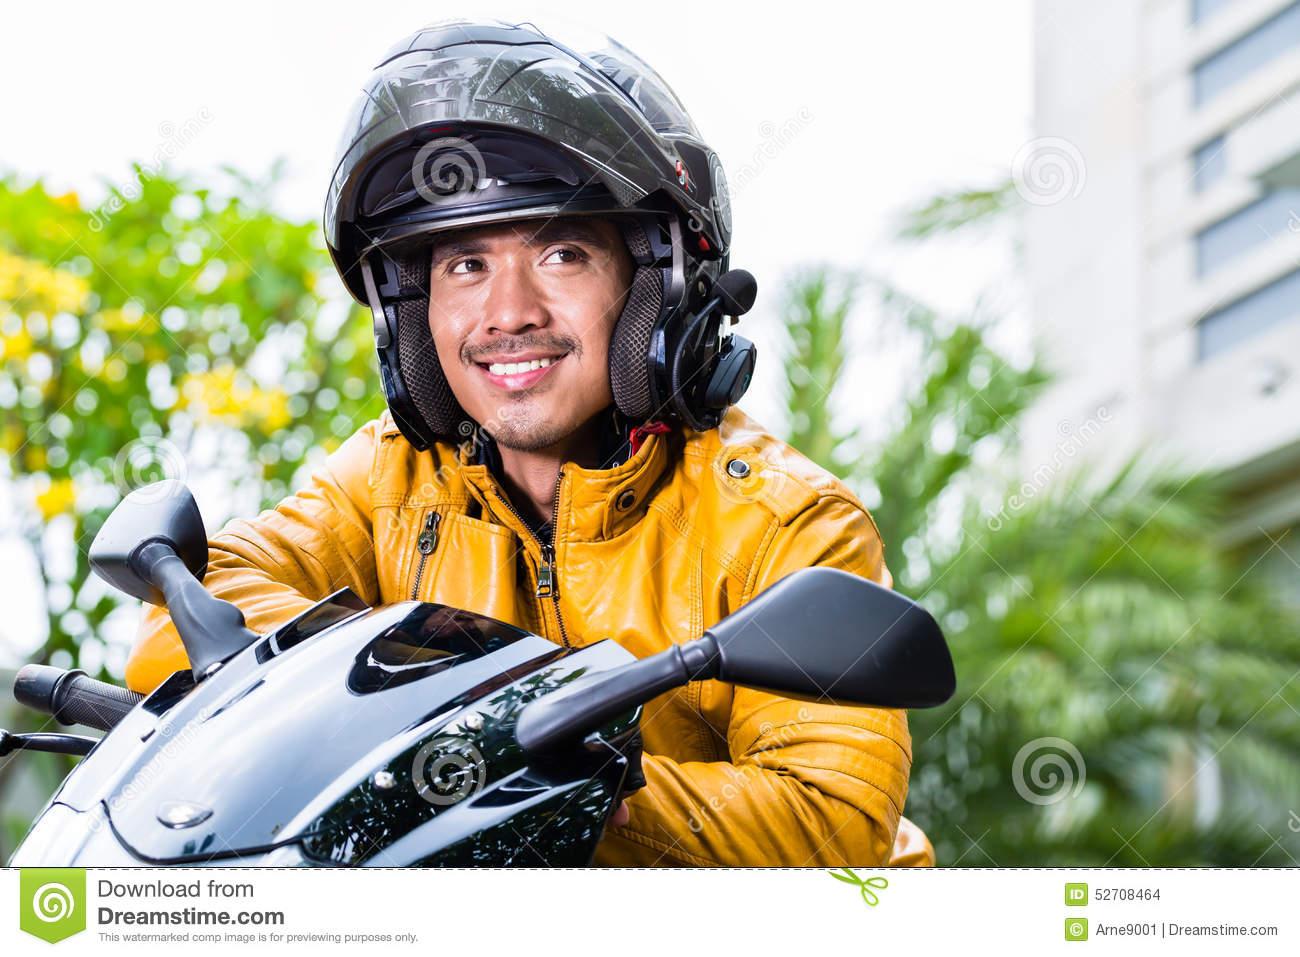helmet: (326, 32, 743, 435)
